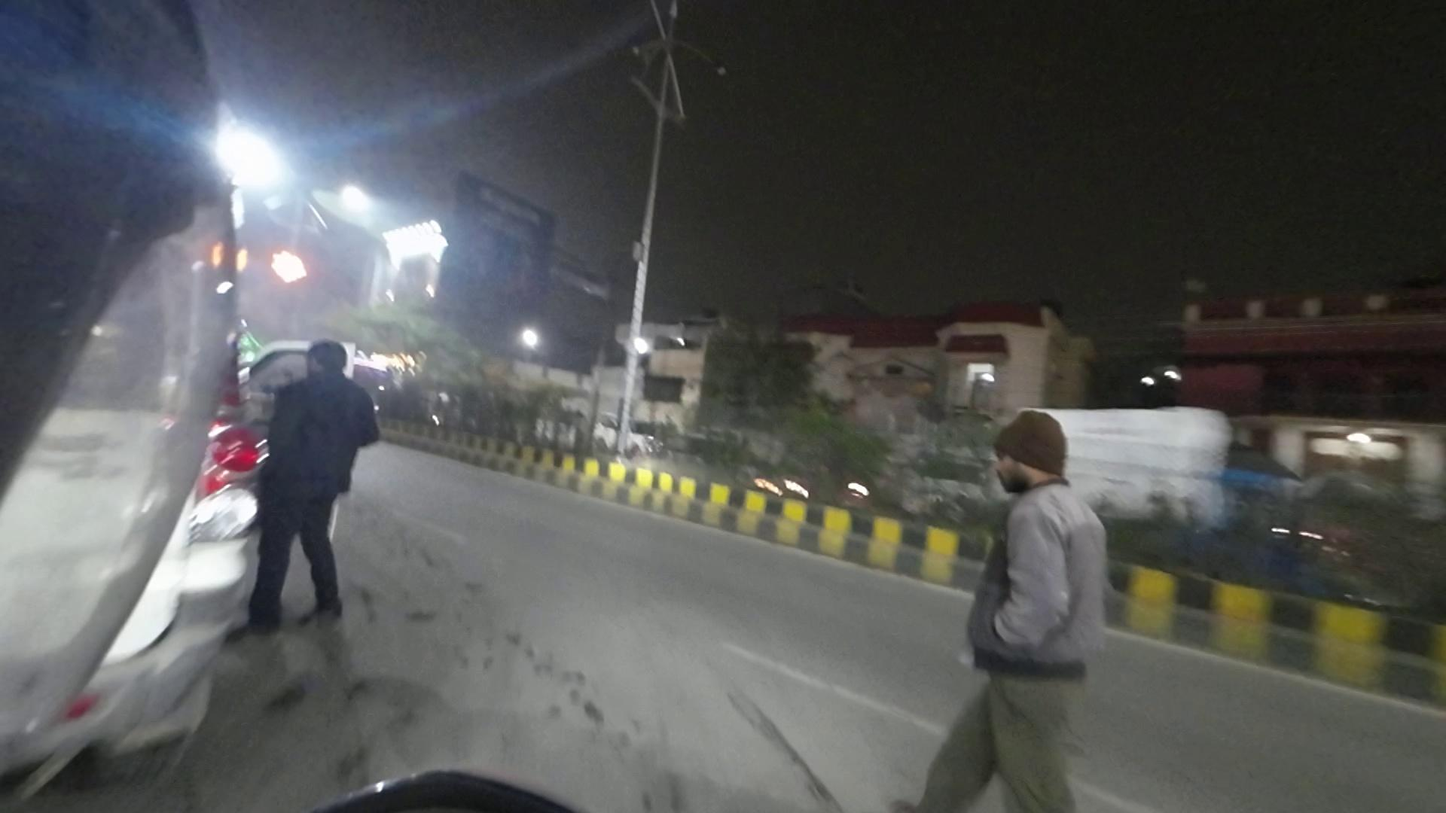streetlight: (689, 47, 730, 79)
